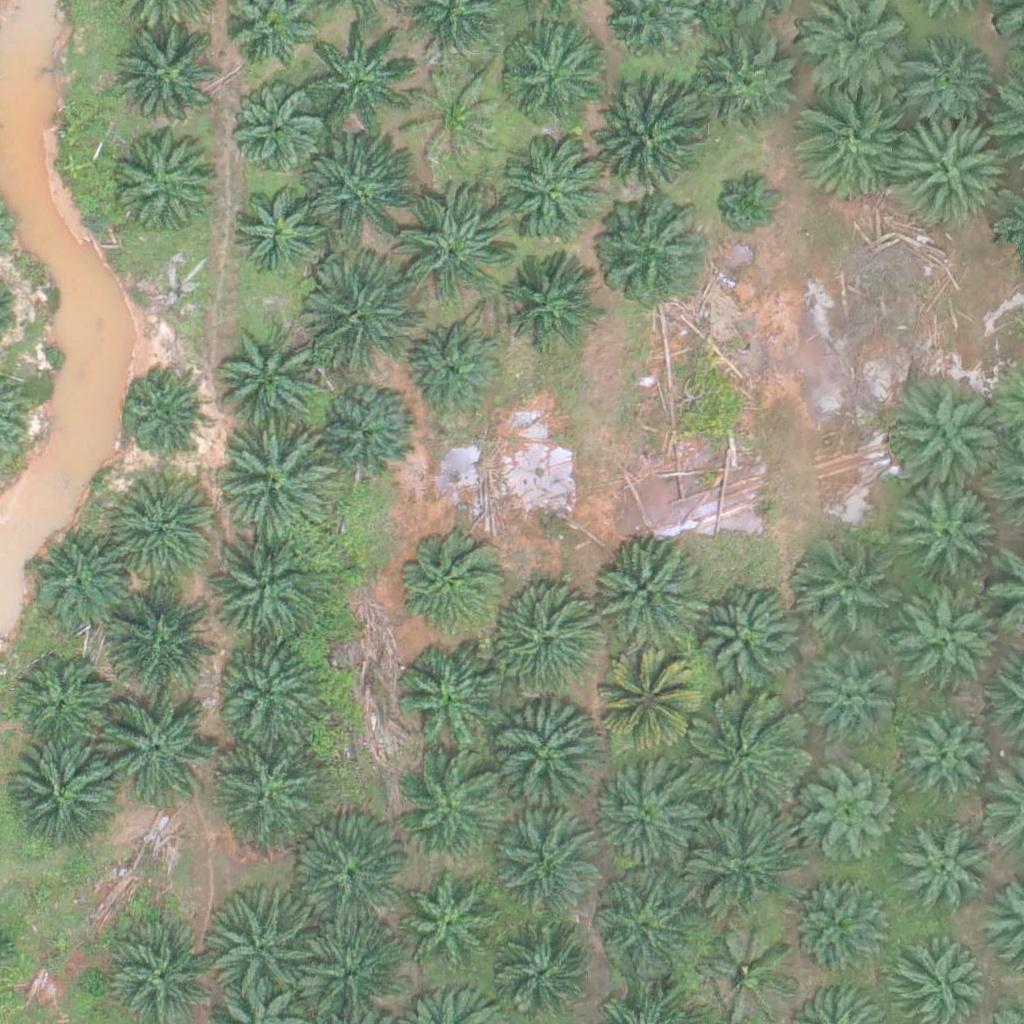Kelapa_Sawit: (216, 631, 329, 745), (304, 259, 417, 373), (207, 536, 320, 650), (105, 472, 218, 586), (684, 809, 797, 922), (688, 697, 801, 810), (491, 704, 604, 817), (393, 646, 506, 759), (4, 743, 117, 856), (890, 114, 1003, 227), (787, 88, 900, 201), (890, 383, 1003, 496), (687, 585, 800, 698), (591, 84, 704, 197), (305, 133, 418, 246), (396, 751, 508, 865), (499, 134, 611, 248), (394, 523, 506, 637), (104, 580, 216, 694), (114, 23, 226, 137), (297, 826, 409, 939), (208, 734, 320, 847), (208, 882, 320, 995), (96, 691, 208, 804), (893, 573, 1005, 686), (787, 536, 899, 649), (590, 542, 702, 655), (480, 586, 592, 699), (593, 200, 705, 313), (397, 189, 509, 302), (302, 20, 414, 133), (218, 313, 330, 426), (222, 427, 334, 540), (893, 819, 993, 920), (791, 874, 891, 975), (589, 763, 689, 864), (591, 875, 691, 976), (497, 820, 597, 921), (398, 875, 498, 976), (11, 653, 111, 754), (897, 33, 997, 134), (898, 487, 998, 588), (701, 34, 801, 135), (407, 62, 507, 163), (314, 380, 414, 481), (224, 80, 324, 181), (228, 176, 328, 277), (117, 132, 217, 233), (30, 533, 130, 634), (794, 769, 894, 869), (595, 657, 695, 757), (300, 923, 400, 1023), (500, 253, 600, 353), (497, 25, 597, 125), (403, 326, 503, 426), (905, 714, 992, 802), (807, 659, 894, 747), (118, 366, 205, 454), (711, 163, 786, 238)
